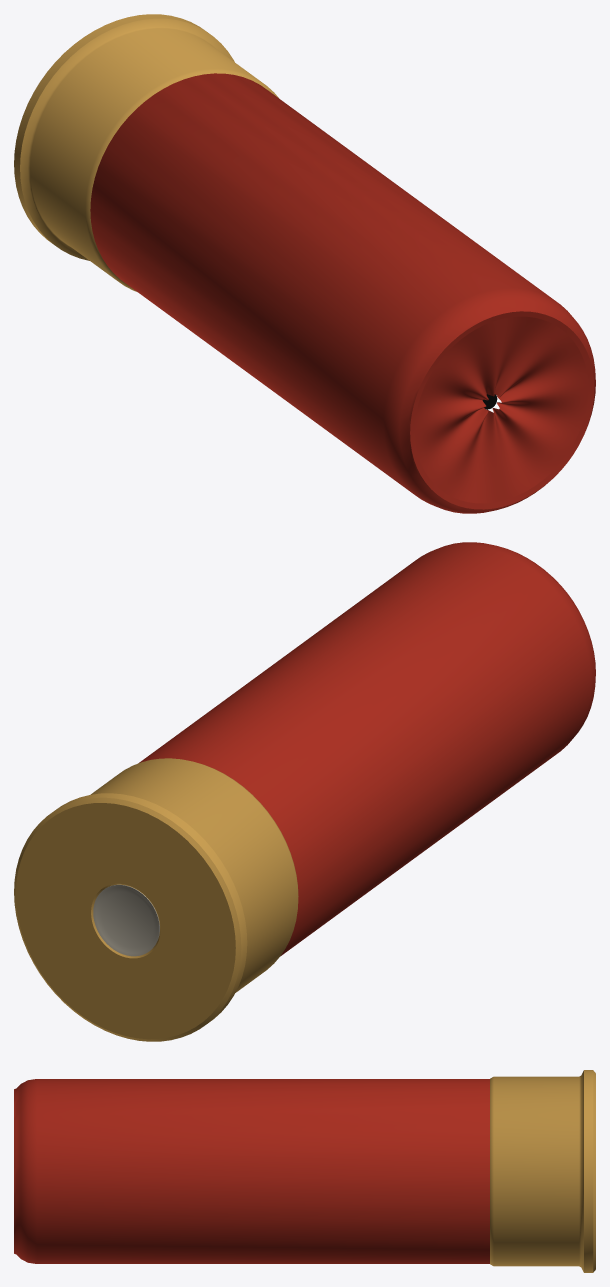
File: shell-12ga.glb
3 renders of one model, top to bottom at view 1: azimuth 30°, elevation 25°; view 2: azimuth 150°, elevation 25°; view 3: azimuth 270°, elevation 25°, orthographic. The views are drawn at different scales.
Parts seen in each view (by area): view 1: shell_hull, shell_crimp, shell_brass_head; view 2: shell_hull, shell_brass_head, shell_primer; view 3: shell_hull, shell_brass_head.
Boxes of the visible parts, box(x1,y1,x2,y2) form: shell_hull: box(90, 73, 595, 513); shell_crimp: box(414, 316, 588, 503); shell_brass_head: box(14, 14, 278, 291); shell_hull: box(138, 542, 595, 956); shell_brass_head: box(14, 758, 298, 1041); shell_primer: box(93, 884, 159, 956); shell_hull: box(14, 1079, 489, 1263); shell_brass_head: box(490, 1070, 595, 1272).
Size of the model in its own units: 0.0222 by 0.0222 by 0.0638.
